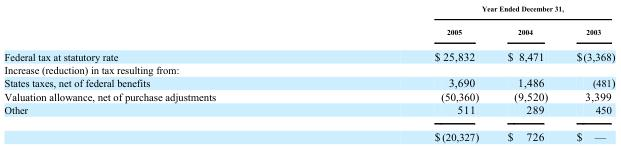table: (3, 3, 614, 142)
table column: (3, 3, 324, 142), (324, 3, 492, 142), (492, 3, 561, 142), (561, 3, 614, 142)
table column header: (3, 3, 614, 42)
table projected row header: (3, 62, 614, 75)
table row: (3, 19, 614, 42), (3, 42, 614, 62), (3, 102, 614, 122), (3, 122, 614, 142), (3, 3, 614, 19), (3, 75, 614, 89), (3, 62, 614, 75), (3, 89, 614, 102)
table spanning cell: (324, 3, 614, 19)
